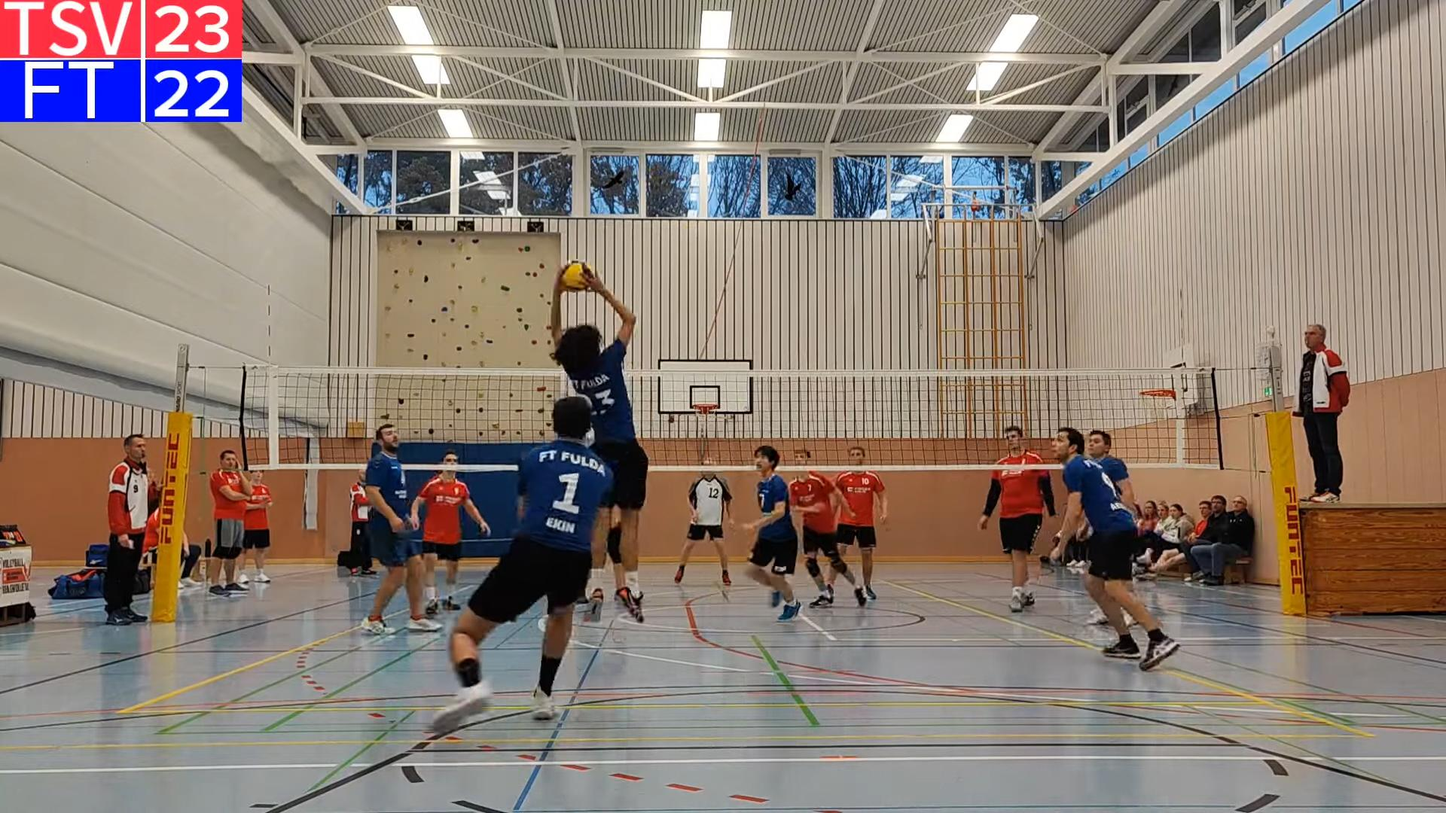difesa: (545, 265, 652, 625)
